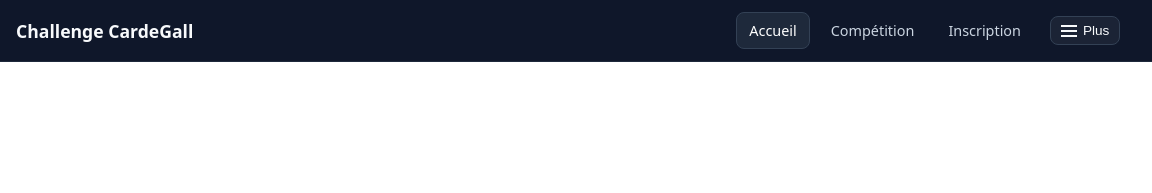
TopBar › before clôture: the "Plus" menu only lists the tabs not already shown in the top bar
This screenshot has width=1152, height=193.
Click the button with aria-label "Plus d'options de navigation" at x=1085, y=30, box [1050,16,1120,45]
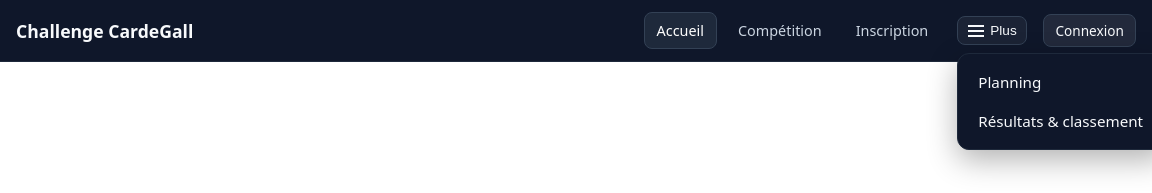
Result: the menu item "Planning" is shown at [978,72,1041,92]
Result: the menu item "Résultats & classement" is shown at [978,111,1143,131]
